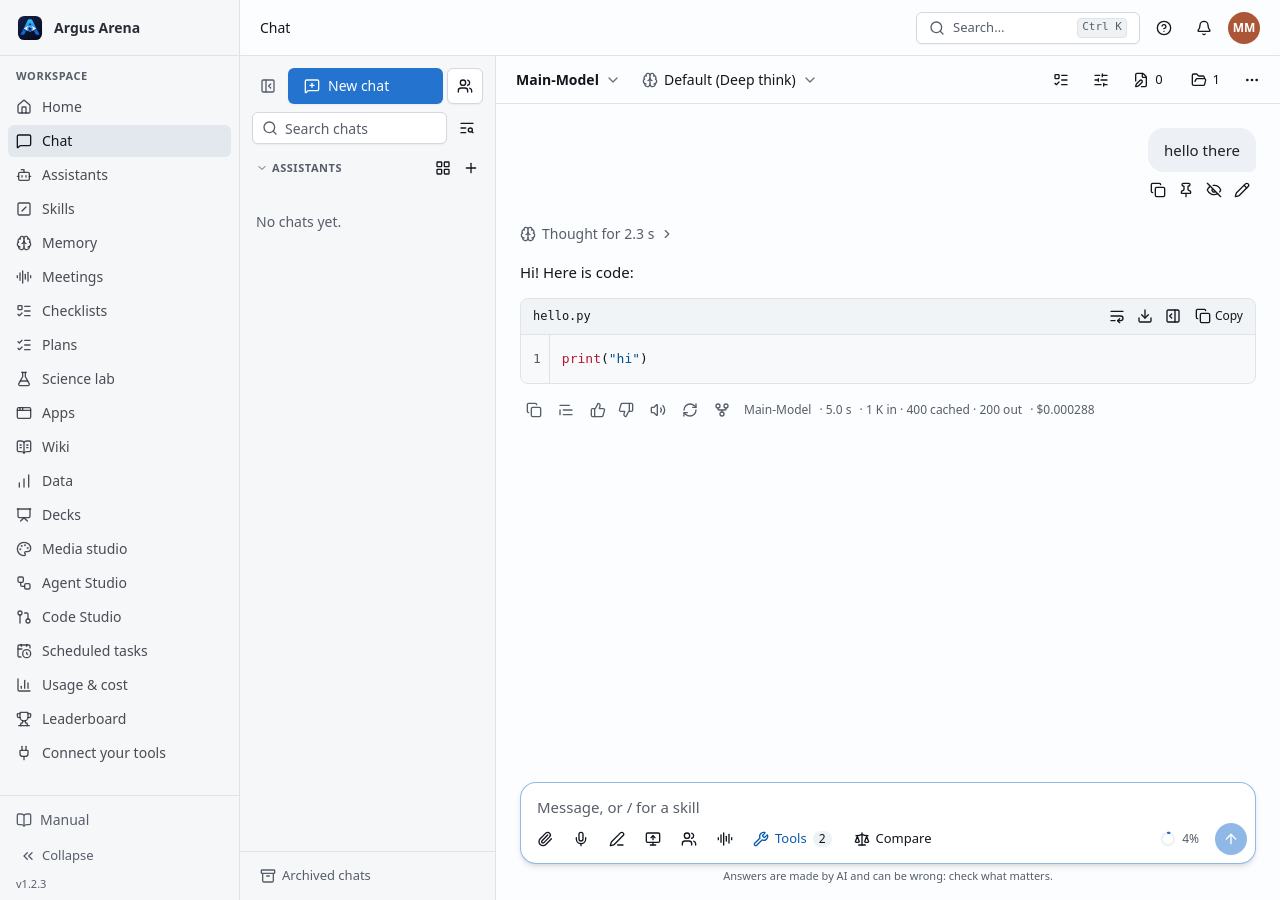
Test: chat › code the model writes is in the Files panel, and a code block can be copied and downloaded
Expected: the button named "Download hello.py" is shown, top-left (1131, 302), bottom-right (1159, 330)
Click the button named "Open hello.py in the Files panel". click: point(1173, 316)
box: top-left (1159, 302), bottom-right (1187, 330)
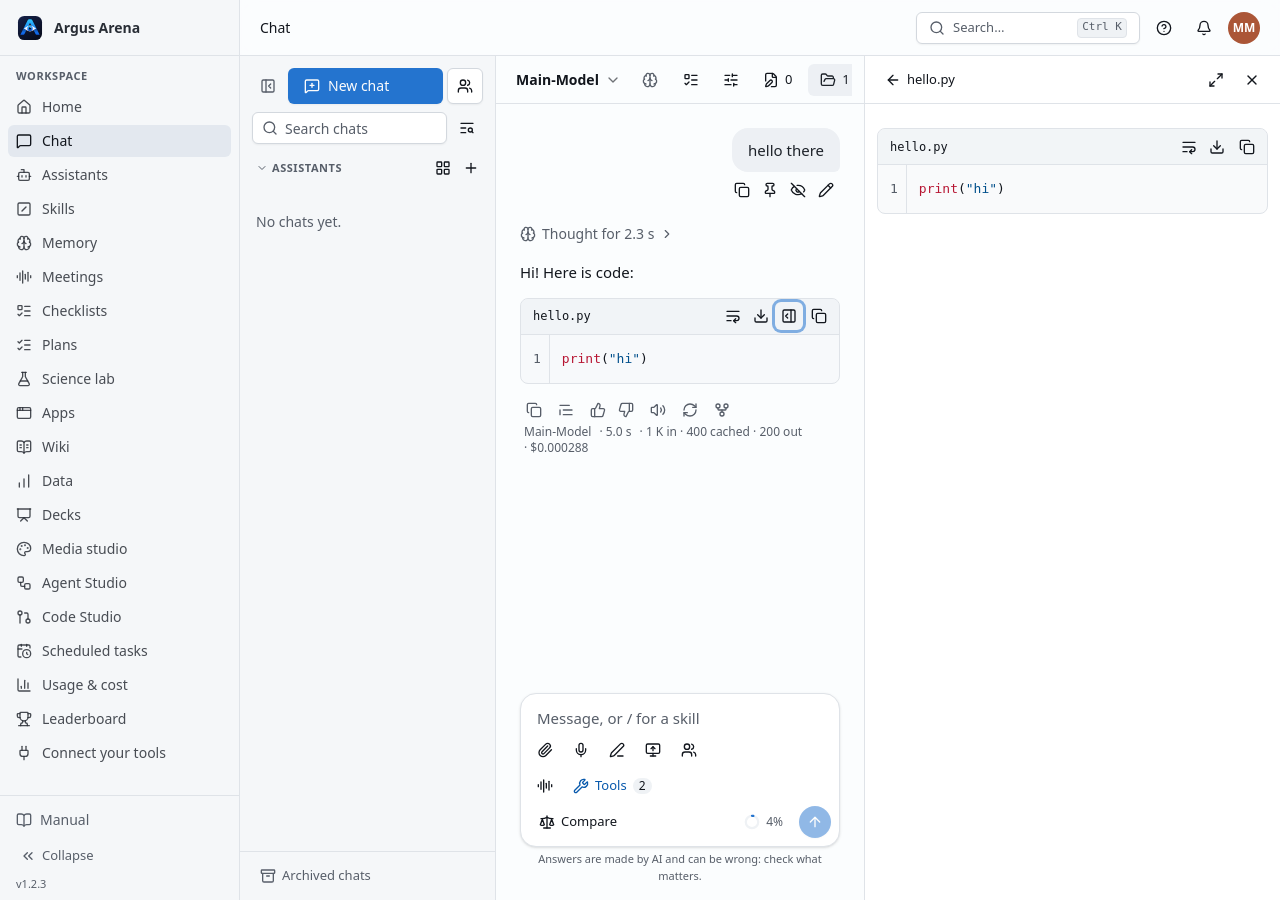
Result: the element named "Code: hello.py" is shown at top-left (877, 128), bottom-right (1268, 214)
